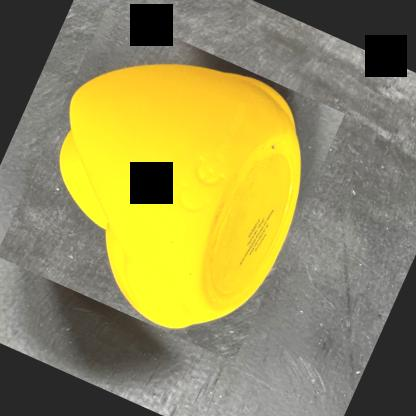duck: (0, 7, 344, 362)
